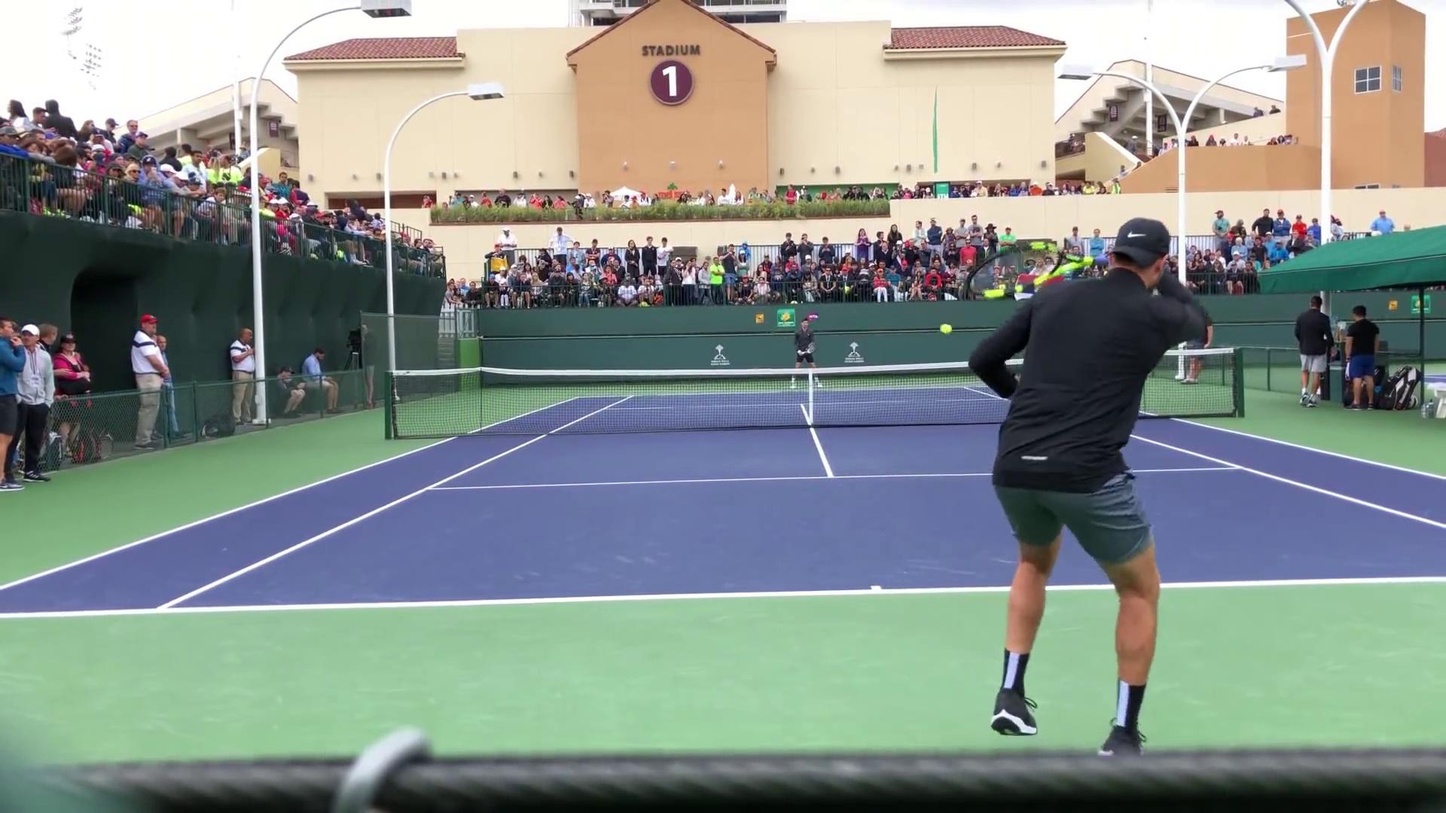ball: (940, 321, 955, 335)
